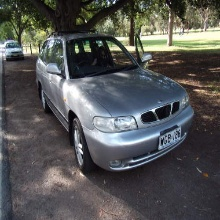no damage: (35, 31, 194, 175), (4, 40, 25, 60)
